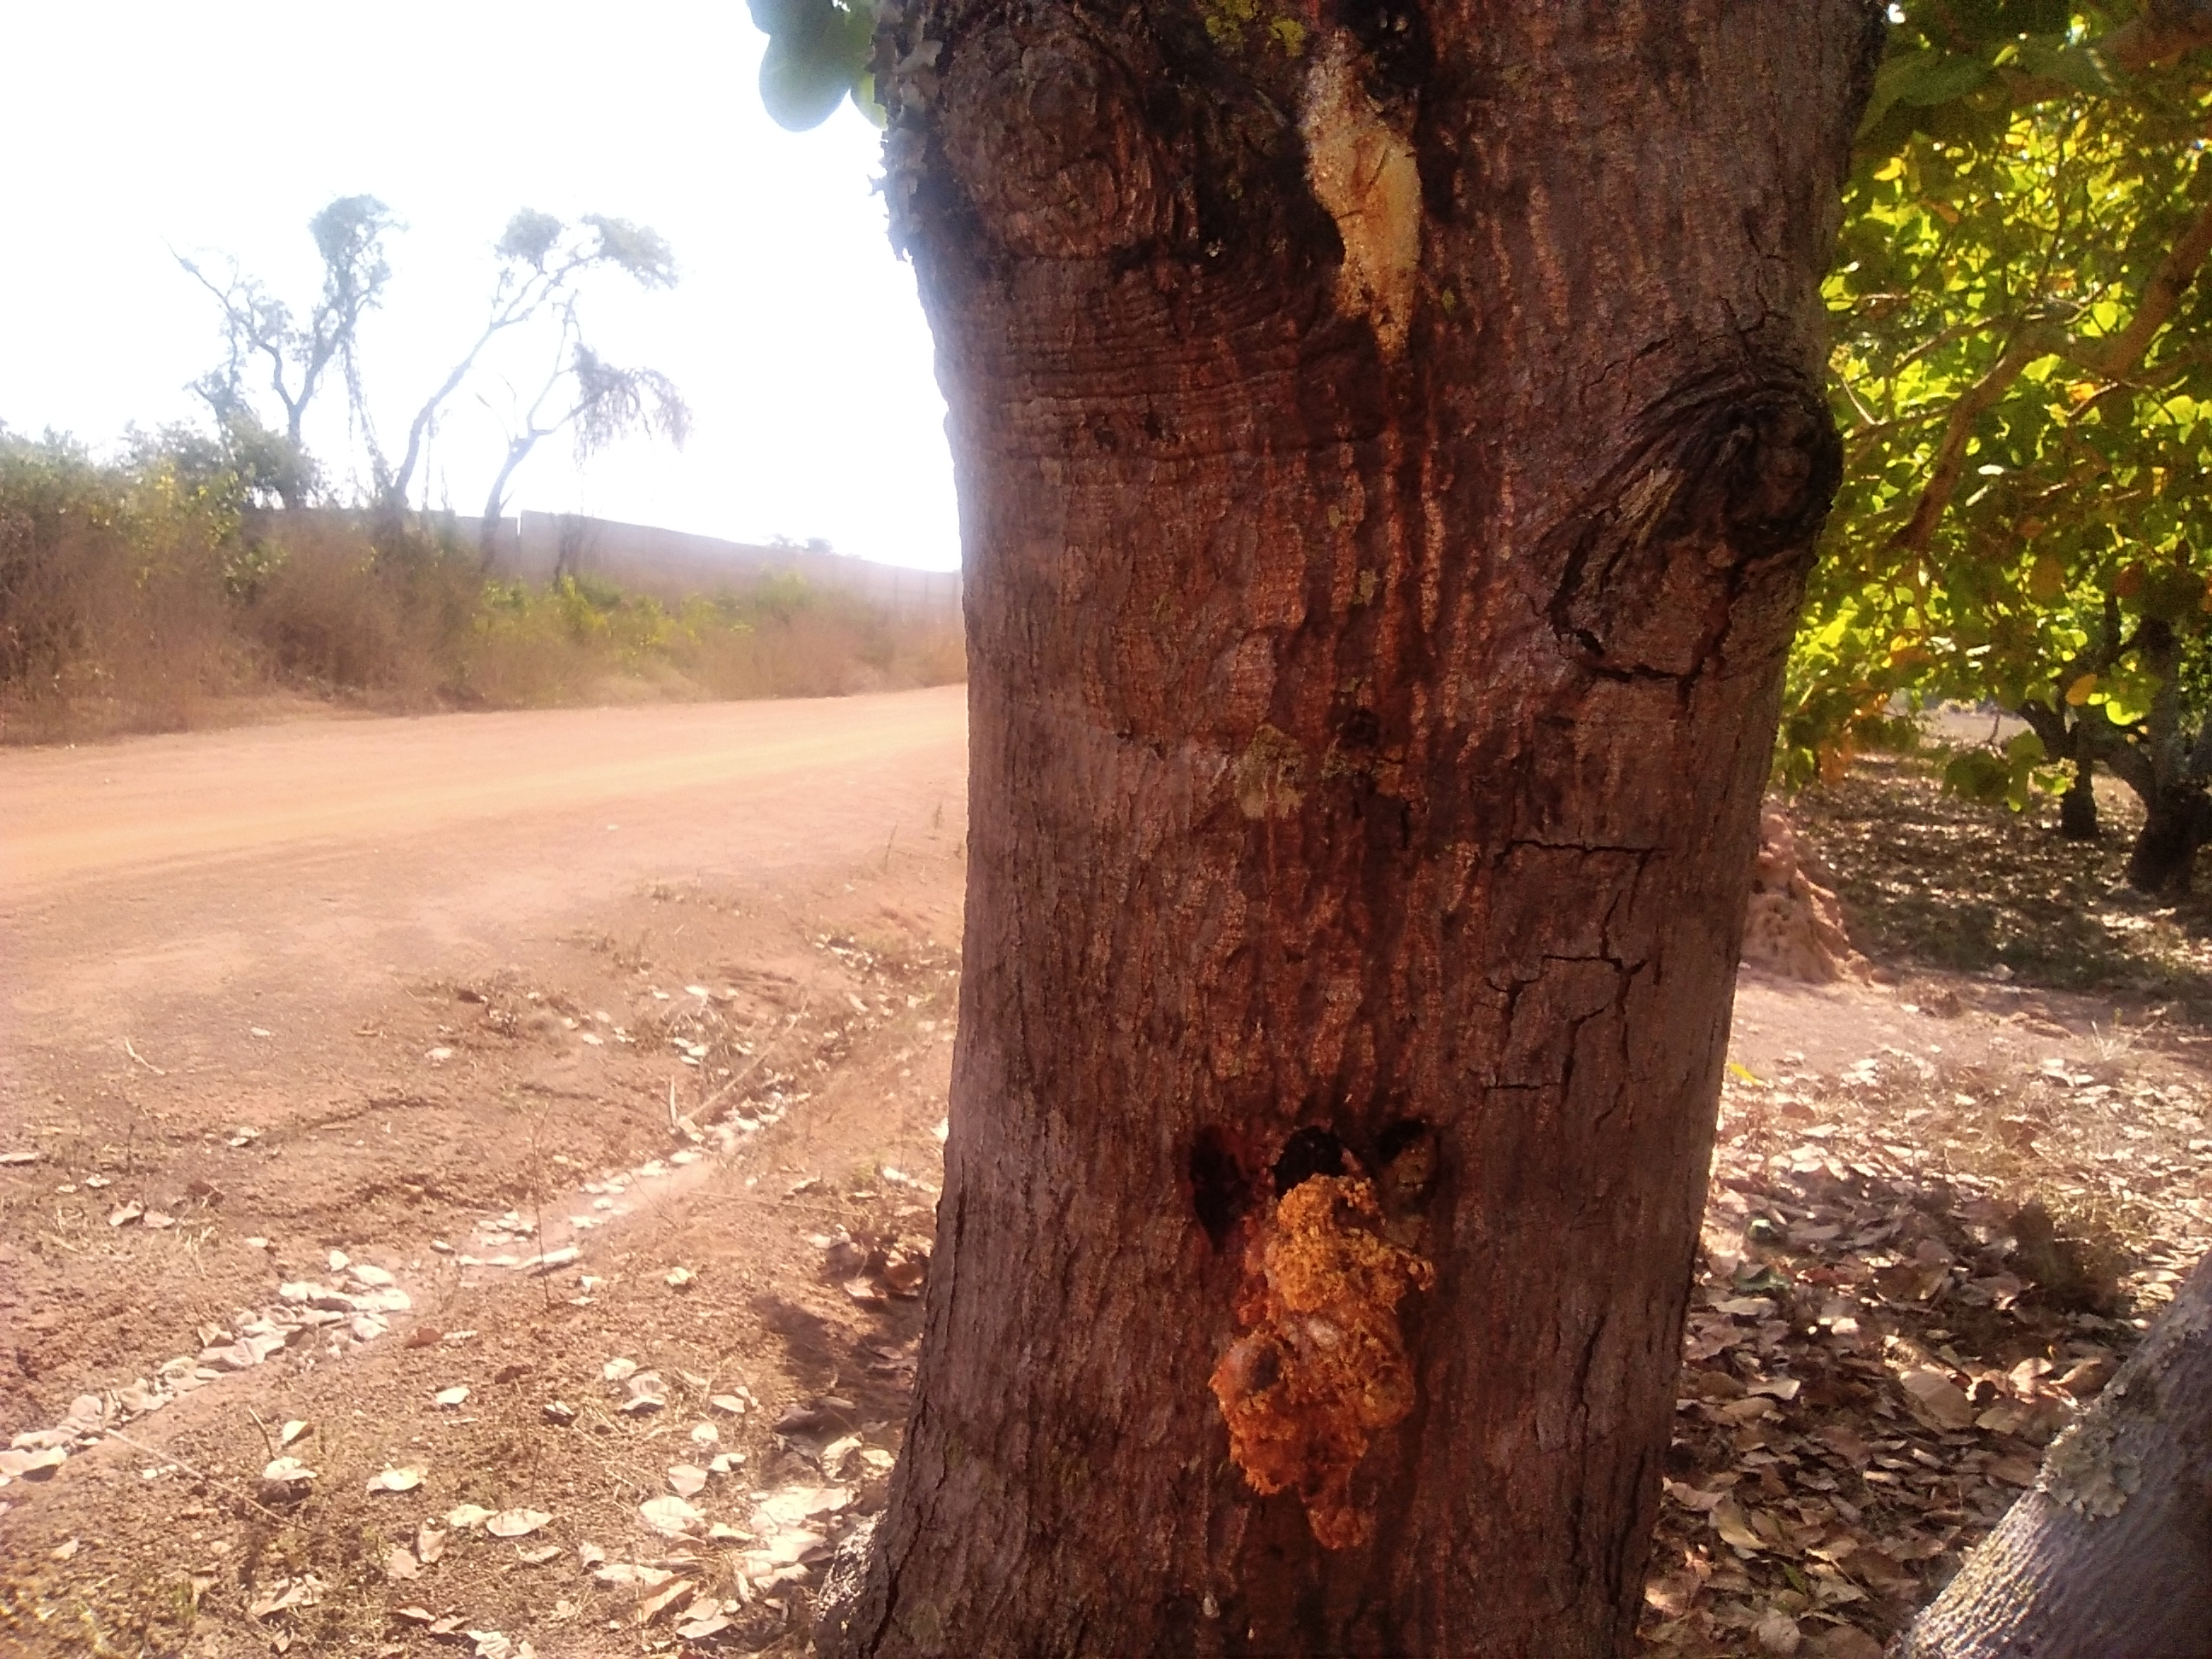Apate terebrans: (1109, 1082, 1665, 1556)
